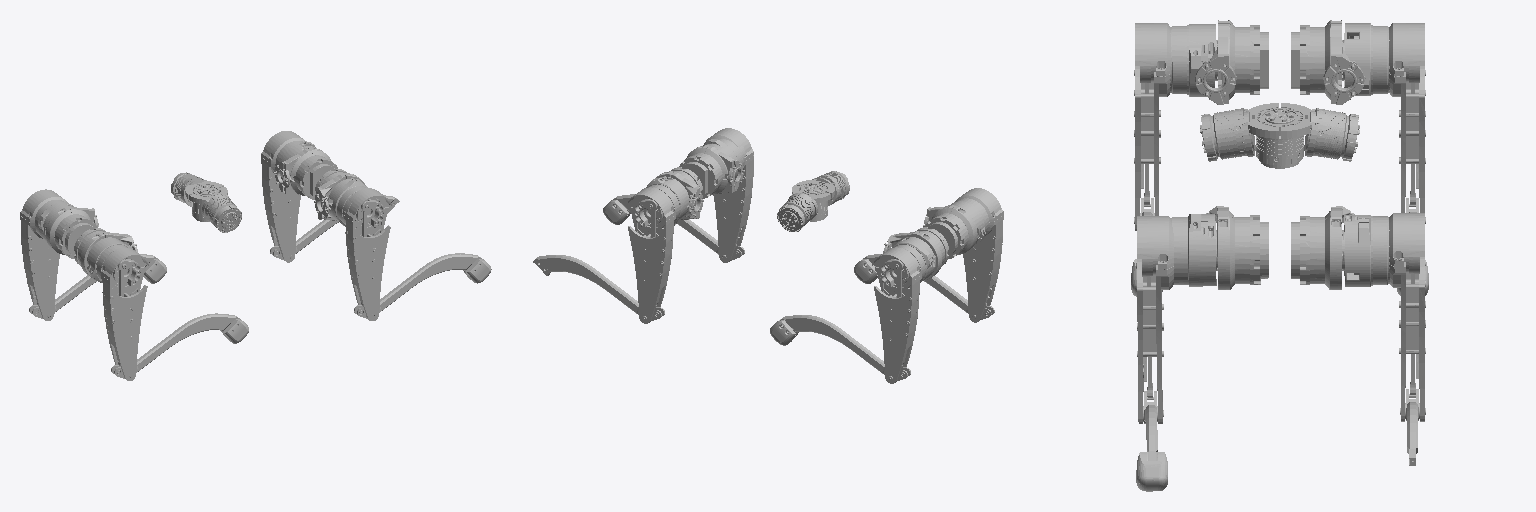
URDF robot description (bbb):
<?xml version='1.0' encoding='utf-8'?>
<robot name="bbb">
  <link name="base_link">
    <inertial>
      <origin xyz="-0.00581224200987918 0.000426613373044227 -0.00105478177946666" rpy="0 0 0" />
      <mass value="5.41366707100683" />
      <inertia ixx="0.0241142338903045" ixy="1.3553444371219E-06" ixz="-1.36708274710165E-05" iyy="0.0157681182162229" iyz="-9.83997409893714E-05" izz="0.0357076438689546" />
    </inertial>
    <visual>
      <origin xyz="0 0 0" rpy="0 0 0" />
      <geometry>
        <mesh filename="../meshes/base_link.STL" />
      </geometry>
      <material name="">
        <color rgba="0.753 0.753 0.753 1" />
      </material>
    </visual>
    <collision>
      <origin xyz="0 0 0" rpy="0 0 0" />
      <geometry>
        <mesh filename="../meshes/base_link.STL" />
      </geometry>
    </collision>
  </link>
  <link name="lf_hip_link">
    <inertial>
      <origin xyz="-0.00495565573254031 -0.0277291549147522 -4.53913481482382E-06" rpy="0 0 0" />
      <mass value="0.351815093071107" />
      <inertia ixx="0.000225370036944545" ixy="4.21090367483954E-06" ixz="8.86016895485901E-09" iyy="0.000276953379434167" iyz="-4.458148042616E-09" izz="0.000185724930026978" />
    </inertial>
    <visual>
      <origin xyz="0 0 0" rpy="0 0 0" />
      <geometry>
        <mesh filename="../meshes/lf_hip_link.STL" />
      </geometry>
      <material name="">
        <color rgba="0.753 0.753 0.753 1" />
      </material>
    </visual>
    <collision>
      <origin xyz="0 0 0" rpy="0 0 0" />
      <geometry>
        <mesh filename="../meshes/lf_hip_link.STL" />
      </geometry>
    </collision>
  </link>
  <joint name="lf_hip_roll_joint" type="revolute">
    <origin xyz="0.270000000000093 0.0770000000000011 0.00650000000000003" rpy="0 0 0" />
    <parent link="base_link" />
    <child link="lf_hip_link" />
    <axis xyz="1 0 0" />
    <limit lower="-0.87" upper="0.87" effort="0" velocity="0" />
  </joint>
  <link name="lf_thigh_link">
    <inertial>
      <origin xyz="-0.00498610621636619 -0.0284290230210779 -0.032829002371977" rpy="0 0 0" />
      <mass value="0.658934018099903" />
      <inertia ixx="0.000994922145335037" ixy="-4.50608493670515E-06" ixz="1.33080249462515E-06" iyy="0.00112098245426442" iyz="9.80379728122229E-06" izz="0.000290234107322552" />
    </inertial>
    <visual>
      <origin xyz="0 0 0" rpy="0 0 0" />
      <geometry>
        <mesh filename="../meshes/lf_thigh_link.STL" />
      </geometry>
      <material name="">
        <color rgba="0.753 0.753 0.753 1" />
      </material>
    </visual>
    <collision>
      <origin xyz="0 0 0" rpy="0 0 0" />
      <geometry>
        <mesh filename="../meshes/lf_thigh_link.STL" />
      </geometry>
    </collision>
  </link>
  <joint name="lf_hip_pitch_joint" type="revolute">
    <origin xyz="0 0.0820941029534056 0" rpy="0 0 0" />
    <parent link="lf_hip_link" />
    <child link="lf_thigh_link" />
    <axis xyz="0 1 0" />
    <limit lower="-0.79" upper="2.61" effort="0" velocity="0" />
  </joint>
  <link name="lf_calf_link">
    <inertial>
      <origin xyz="0.034323548724133 -0.000556202320309882 -0.121491863209091" rpy="0 0 0" />
      <mass value="0.0886411364041483" />
      <inertia ixx="0.000493432983654381" ixy="1.24116369279815E-09" ixz="9.20359502973423E-05" iyy="0.000522134395218444" iyz="-4.45037360047711E-09" izz="3.11362902828436e-05" />
    </inertial>
    <visual>
      <origin xyz="0 0 0" rpy="0 0 0" />
      <geometry>
        <mesh filename="../meshes/lf_calf_link.STL" />
      </geometry>
      <material name="">
        <color rgba="0.753 0.753 0.753 1" />
      </material>
    </visual>
    <collision>
      <origin xyz="0 0 0" rpy="0 0 0" />
      <geometry>
        <mesh filename="../meshes/lf_calf_link.STL" />
      </geometry>
    </collision>
  </link>
  <joint name="lf_knee_joint" type="revolute">
    <origin xyz="0 0 -0.2125" rpy="0 0 0" />
    <parent link="lf_thigh_link" />
    <child link="lf_calf_link" />
    <axis xyz="0 1 0" />
    <limit lower="-2.75" upper="-0.55" effort="0" velocity="0" />
  </joint>
  <link name="lf_foot_link">
    <inertial>
      <origin xyz="-0.00871413205939864 -7.98572501113926E-05 -0.00606935779778295" rpy="0 0 0" />
      <mass value="0.0560098725774845" />
      <inertia ixx="1.36530429816947E-05" ixy="6.03621970966013E-08" ixz="3.961578326991E-07" iyy="1.45656639808829E-05" iyz="3.87269454059871E-08" izz="1.29196315971462E-05" />
    </inertial>
    <visual>
      <origin xyz="0 0 0" rpy="0 0 0" />
      <geometry>
        <mesh filename="../meshes/lf_foot_link.STL" />
      </geometry>
      <material name="">
        <color rgba="0.753 0.753 0.753 1" />
      </material>
    </visual>
    <collision>
      <origin xyz="0 0 0" rpy="0 0 0" />
      <geometry>
        <mesh filename="../meshes/lf_foot_link.STL" />
      </geometry>
    </collision>
  </link>
  <joint name="lf_ankle_joint" type="fixed">
    <origin xyz="0.0241526723373156 0 -0.238616236023326" rpy="0 0 0" />
    <parent link="lf_calf_link" />
    <child link="lf_foot_link" />
    <axis xyz="0 0 0" />
  </joint>
  <link name="rf_hip_link">
    <inertial>
      <origin xyz="-0.0049556486179978 0.0277280815997937 0.000243507512134741" rpy="0 0 0" />
      <mass value="0.351815204950062" />
      <inertia ixx="0.000225370196335312" ixy="-4.21066762823921E-06" ixz="-4.51963328694996E-08" iyy="0.000276946853799147" iyz="7.81764996234794E-07" izz="0.000185731643441757" />
    </inertial>
    <visual>
      <origin xyz="0 0 0" rpy="0 0 0" />
      <geometry>
        <mesh filename="../meshes/rf_hip_link.STL" />
      </geometry>
      <material name="">
        <color rgba="0.753 0.753 0.753 1" />
      </material>
    </visual>
    <collision>
      <origin xyz="0 0 0" rpy="0 0 0" />
      <geometry>
        <mesh filename="../meshes/rf_hip_link.STL" />
      </geometry>
    </collision>
  </link>
  <joint name="rf_hip_roll_joint" type="revolute">
    <origin xyz="0.27 -0.0769999999999902 0.00649999999999125" rpy="0 0 0" />
    <parent link="base_link" />
    <child link="rf_hip_link" />
    <axis xyz="1 0 0" />
    <limit lower="-0.87" upper="0.87" effort="0" velocity="0" />
  </joint>
  <link name="rf_thigh_link">
    <inertial>
      <origin xyz="-0.00498610621636619 0.0284290230210779 -0.032829002371977" rpy="0 0 0" />
      <mass value="0.658934018099903" />
      <inertia ixx="0.000994922145335037" ixy="-5.34779451471435E-06" ixz="8.41748835309276E-06" iyy="0.00112098245426442" iyz="-3.7233095489091E-06" izz="0.000290234107322552" />
    </inertial>
    <visual>
      <origin xyz="0 0 0" rpy="0 0 0" />
      <geometry>
        <mesh filename="../meshes/rf_thigh_link.STL" />
      </geometry>
      <material name="">
        <color rgba="0.753 0.753 0.753 1" />
      </material>
    </visual>
    <collision>
      <origin xyz="0 0 0" rpy="0 0 0" />
      <geometry>
        <mesh filename="../meshes/rf_thigh_link.STL" />
      </geometry>
    </collision>
  </link>
  <joint name="rf_hip_pitch_joint" type="revolute">
    <origin xyz="0.00625673374689839 -0.0799602406412827 -0.0007143681757424" rpy="0 0 0" />
    <parent link="rf_hip_link" />
    <child link="rf_thigh_link" />
    <axis xyz="0 1 0" />
    <limit lower="-0.79" upper="2.61" effort="0" velocity="0" />
  </joint>
  <link name="rf_calf_link">
    <inertial>
      <origin xyz="0.034323548724133 0.000556202320309882 -0.121491863209091" rpy="0 0 0" />
      <mass value="0.0886411364041483" />
      <inertia ixx="0.000493432983654381" ixy="-7.91959230530167E-07" ixz="9.20325433021602E-05" iyy="0.000522134395218444" iyz="4.22730872923111E-06" izz="3.11362902828436e-05" />
    </inertial>
    <visual>
      <origin xyz="0 0 0" rpy="0 0 0" />
      <geometry>
        <mesh filename="../meshes/rf_calf_link.STL" />
      </geometry>
      <material name="">
        <color rgba="0.753 0.753 0.753 1" />
      </material>
    </visual>
    <collision>
      <origin xyz="0 0 0" rpy="0 0 0" />
      <geometry>
        <mesh filename="../meshes/rf_calf_link.STL" />
      </geometry>
    </collision>
  </link>
  <joint name="rf_knee_joint" type="revolute">
    <origin xyz="0 0.00183140408203904 -0.212492107869655" rpy="0 0 0" />
    <parent link="rf_thigh_link" />
    <child link="rf_calf_link" />
    <axis xyz="0 1 0" />
    <limit lower="-2.75" upper="-0.55" effort="0" velocity="0" />
  </joint>
  <link name="rf_foot_link">
    <inertial>
      <origin xyz="-0.00871413333598681 -2.75457789420258E-05 -0.00606982061808625" rpy="0 0 0" />
      <mass value="0.0560098720806614" />
      <inertia ixx="1.36530433271663E-05" ixy="5.69452574653755E-08" ixz="3.96663799090001E-07" iyy="1.45648736643304E-05" iyz="5.29061137701372E-08" izz="1.29204202579859E-05" />
    </inertial>
    <visual>
      <origin xyz="0 0 0" rpy="0 0 0" />
      <geometry>
        <mesh filename="../meshes/rf_foot_link.STL" />
      </geometry>
      <material name="">
        <color rgba="0.753 0.753 0.753 1" />
      </material>
    </visual>
    <collision>
      <origin xyz="0 0 0" rpy="0 0 0" />
      <geometry>
        <mesh filename="../meshes/rf_foot_link.STL" />
      </geometry>
    </collision>
  </link>
  <joint name="rf_ankle_joint" type="fixed">
    <origin xyz="0.0241526723373044 0.00205647938763617 -0.238607374124243" rpy="0 0 0" />
    <parent link="rf_calf_link" />
    <child link="rf_foot_link" />
    <axis xyz="0 0 0" />
  </joint>
  <link name="lb_hip_link">
    <inertial>
      <origin xyz="0.00495565572022805 -0.0277291549423456 4.53915673045979E-06" rpy="0 0 0" />
      <mass value="0.351815092669551" />
      <inertia ixx="0.000225370036592201" ixy="-4.21090362492546E-06" ixz="8.85998294641503E-09" iyy="0.000276953378961834" iyz="4.45808524602267E-09" izz="0.000185724929867589" />
    </inertial>
    <visual>
      <origin xyz="0 0 0" rpy="0 0 0" />
      <geometry>
        <mesh filename="../meshes/lb_hip_link.STL" />
      </geometry>
      <material name="">
        <color rgba="0.753 0.753 0.753 1" />
      </material>
    </visual>
    <collision>
      <origin xyz="0 0 0" rpy="0 0 0" />
      <geometry>
        <mesh filename="../meshes/lb_hip_link.STL" />
      </geometry>
    </collision>
  </link>
  <joint name="lb_hip_roll_joint" type="revolute">
    <origin xyz="-0.27 0.0769999999999937 0.00649999999998982" rpy="0 0 0" />
    <parent link="base_link" />
    <child link="lb_hip_link" />
    <axis xyz="1 0 0" />
    <limit lower="-0.87" upper="0.87" effort="0" velocity="0" />
  </joint>
  <link name="lb_thigh_link">
    <inertial>
      <origin xyz="-0.0034268508780364 -0.0273873495689585 -0.0328343083171107" rpy="0 0 0" />
      <mass value="0.658933850403685" />
      <inertia ixx="0.000970448684122255" ixy="-2.47605315392083E-06" ixz="2.47514430228116E-05" iyy="0.00112091937488099" iyz="8.30041640505366E-06" izz="0.000314770592141005" />
    </inertial>
    <visual>
      <origin xyz="0 0 0" rpy="0 0 0" />
      <geometry>
        <mesh filename="../meshes/lb_thigh_link.STL" />
      </geometry>
      <material name="">
        <color rgba="0.753 0.753 0.753 1" />
      </material>
    </visual>
    <collision>
      <origin xyz="0 0 0" rpy="0 0 0" />
      <geometry>
        <mesh filename="../meshes/lb_thigh_link.STL" />
      </geometry>
    </collision>
  </link>
  <joint name="lb_hip_pitch_joint" type="revolute">
    <origin xyz="0 0.082094102953411 0" rpy="0 0 0" />
    <parent link="lb_hip_link" />
    <child link="lb_thigh_link" />
    <axis xyz="0 1 0" />
    <limit lower="-0.79" upper="2.61" effort="0" velocity="0" />
  </joint>
  <link name="lb_calf_link">
    <inertial>
      <origin xyz="0.0343235492158751 -0.00197924277861043 -0.121494261539372" rpy="0 0 0" />
      <mass value="0.0886411363789507" />
      <inertia ixx="0.000493432983529901" ixy="1.24116369475104E-09" ixz="9.20359502973427E-05" iyy="0.000522152592703594" iyz="-4.45037359904783E-09" izz="3.11180923694494e-05" />
    </inertial>
    <visual>
      <origin xyz="0 0 0" rpy="0 0 0" />
      <geometry>
        <mesh filename="../meshes/lb_calf_link.STL" />
      </geometry>
      <material name="">
        <color rgba="0.753 0.753 0.753 1" />
      </material>
    </visual>
    <collision>
      <origin xyz="0 0 0" rpy="0 0 0" />
      <geometry>
        <mesh filename="../meshes/lb_calf_link.STL" />
      </geometry>
    </collision>
  </link>
  <joint name="lb_knee_joint" type="revolute">
    <origin xyz="0 0 -0.212500000000001" rpy="0 0 0" />
    <parent link="lb_thigh_link" />
    <child link="lb_calf_link" />
    <axis xyz="0 1 0" />
    <limit lower="-2.75" upper="-0.55" effort="0" velocity="0" />
  </joint>
  <link name="lb_foot_link">
    <inertial>
      <origin xyz="-0.00871413198622428 -7.98572501099215E-05 -0.00606935779675599" rpy="0 0 0" />
      <mass value="0.0560098725774851" />
      <inertia ixx="1.36530429816948E-05" ixy="6.03621970965031E-08" ixz="3.96157832699089E-07" iyy="1.45656639808831E-05" iyz="3.87269454060392E-08" izz="1.29196315971463E-05" />
    </inertial>
    <visual>
      <origin xyz="0 0 0" rpy="0 0 0" />
      <geometry>
        <mesh filename="../meshes/lb_foot_link.STL" />
      </geometry>
      <material name="">
        <color rgba="0.753 0.753 0.753 1" />
      </material>
    </visual>
    <collision>
      <origin xyz="0 0 0" rpy="0 0 0" />
      <geometry>
        <mesh filename="../meshes/lb_foot_link.STL" />
      </geometry>
    </collision>
  </link>
  <joint name="lb_ankle_joint" type="fixed">
    <origin xyz="0.0241526722641411 0 -0.238616236024353" rpy="0 0 0" />
    <parent link="lb_calf_link" />
    <child link="lb_foot_link" />
    <axis xyz="0 0 0" />
  </joint>
  <link name="rb_hip_link">
    <inertial>
      <origin xyz="0.0049557 0.027729 -4.5391E-06" rpy="0 0 0" />
      <mass value="0.35182" />
      <inertia ixx="0.00022537" ixy="4.2109E-06" ixz="-8.8602E-09" iyy="0.00027695" iyz="4.4582E-09" izz="0.00018572" />
    </inertial>
    <visual>
      <origin xyz="0 0 0" rpy="0 0 0" />
      <geometry>
        <mesh filename="../meshes/rb_hip_link.STL" />
      </geometry>
      <material name="">
        <color rgba="0.753 0.753 0.753 1" />
      </material>
    </visual>
    <collision>
      <origin xyz="0 0 0" rpy="0 0 0" />
      <geometry>
        <mesh filename="../meshes/rb_hip_link.STL" />
      </geometry>
    </collision>
  </link>
  <joint name="rb_hip_roll_joint" type="revolute">
    <origin xyz="-0.27 -0.0769999999999942 0.00650000000000997" rpy="0 0 0" />
    <parent link="base_link" />
    <child link="rb_hip_link" />
    <axis xyz="1 0 0" />
    <limit lower="-0.87" upper="0.87" effort="0" velocity="0" />
  </joint>
  <link name="rb_thigh_link">
    <inertial>
      <origin xyz="-0.0034268508780364 0.0273873495689585 -0.0328343083171107" rpy="0 0 0" />
      <mass value="0.658933850403685" />
      <inertia ixx="0.000970448684122255" ixy="5.01796507137574E-06" ixz="1.03451497162236E-06" iyy="0.00112091937488099" iyz="-1.54452384258843E-05" izz="0.000314770592141005" />
    </inertial>
    <visual>
      <origin xyz="0 0 0" rpy="0 0 0" />
      <geometry>
        <mesh filename="../meshes/rb_thigh_link.STL" />
      </geometry>
      <material name="">
        <color rgba="0.753 0.753 0.753 1" />
      </material>
    </visual>
    <collision>
      <origin xyz="0 0 0" rpy="0 0 0" />
      <geometry>
        <mesh filename="../meshes/rb_thigh_link.STL" />
      </geometry>
    </collision>
  </link>
  <joint name="rb_hip_pitch_joint" type="revolute">
    <origin xyz="0 -0.0799663975607361 0" rpy="0 0 0" />
    <parent link="rb_hip_link" />
    <child link="rb_thigh_link" />
    <axis xyz="0 1 0" />
    <limit lower="-0.79" upper="2.61" effort="0" velocity="0" />
  </joint>
  <link name="rb_calf_link">
    <inertial>
      <origin xyz="0.0343235492158751 0.00197924277861043 -0.121494261539372" rpy="0 0 0" />
      <mass value="0.0886411363789507" />
      <inertia ixx="0.000493432983529901" ixy="1.24116369236042E-09" ixz="9.20359502973388E-05" iyy="0.000522152592703594" iyz="-4.45037359937172E-09" izz="3.11180923694494e-05" />
    </inertial>
    <visual>
      <origin xyz="0 0 0" rpy="0 0 0" />
      <geometry>
        <mesh filename="../meshes/rb_calf_link.STL" />
      </geometry>
      <material name="">
        <color rgba="0.753 0.753 0.753 1" />
      </material>
    </visual>
    <collision>
      <origin xyz="0 0 0" rpy="0 0 0" />
      <geometry>
        <mesh filename="../meshes/rb_calf_link.STL" />
      </geometry>
    </collision>
  </link>
  <joint name="rb_knee_joint" type="revolute">
    <origin xyz="0 0.00183147210188141 -0.212500000000001" rpy="0 0 0" />
    <parent link="rb_thigh_link" />
    <child link="rb_calf_link" />
    <axis xyz="0 1 0" />
    <limit lower="-2.75" upper="-0.55" effort="0" velocity="0" />
  </joint>
  <link name="rb_foot_link">
    <inertial>
      <origin xyz="-0.00871413205939331 -7.98572501101436E-05 -0.00606935779778162" rpy="0 0 0" />
      <mass value="0.056009872577484" />
      <inertia ixx="1.36530429816945E-05" ixy="6.0362197096531E-08" ixz="3.96157832699087E-07" iyy="1.45656639808828E-05" iyz="3.8726945406054E-08" izz="1.2919631597146E-05" />
    </inertial>
    <visual>
      <origin xyz="0 0 0" rpy="0 0 0" />
      <geometry>
        <mesh filename="../meshes/rb_foot_link.STL" />
      </geometry>
      <material name="">
        <color rgba="0.753 0.753 0.753 1" />
      </material>
    </visual>
    <collision>
      <origin xyz="0 0 0" rpy="0 0 0" />
      <geometry>
        <mesh filename="../meshes/rb_foot_link.STL" />
      </geometry>
    </collision>
  </link>
  <joint name="rb_ankle_joint" type="fixed">
    <origin xyz="0.0241526723373114 -0.00395917750636193 -0.238616236023326" rpy="0 0 0" />
    <parent link="rb_calf_link" />
    <child link="rb_foot_link" />
    <axis xyz="0 0 0" />
  </joint>
</robot>

--- Facts derived from the render (not from the file) ---
The picture shows the robot from 3 angles, left to right: view 1: azimuth 30°, elevation 25°; view 2: azimuth 150°, elevation 25°; view 3: azimuth 270°, elevation 25°; orthographic projection.
Robot: bbb — 17 links, 16 joints (12 revolute, 4 fixed); root link base_link; default pose: joints at zero except 4 at the middle of their limits (lf_knee_joint = -1.65, rf_knee_joint = -1.65, lb_knee_joint = -1.65, rb_knee_joint = -1.65).
Visible links, largest first — view 1: rf_thigh_link, rb_thigh_link, lb_thigh_link, lf_thigh_link, base_link, lf_hip_link, lb_hip_link, rb_calf_link, rf_calf_link, rb_hip_link, rf_hip_link, lf_calf_link (+1 smaller); view 2: lf_thigh_link, lb_thigh_link, rb_thigh_link, rf_thigh_link, base_link, rf_hip_link, rb_hip_link, lf_calf_link, lb_calf_link, lb_hip_link, lf_hip_link, rf_calf_link (+1 smaller); view 3: lf_thigh_link, rf_thigh_link, base_link, rb_thigh_link, lb_thigh_link, rb_hip_link, lb_hip_link, rf_hip_link, lf_hip_link, rf_foot_link, lf_calf_link, rf_calf_link.
Link boxes in pixels (x1=…): rf_thigh_link: x1=328, y1=178, x2=392, y2=320; rb_thigh_link: x1=87, y1=237, x2=149, y2=380; lb_thigh_link: x1=20, y1=189, x2=73, y2=320; lf_thigh_link: x1=261, y1=131, x2=315, y2=262; base_link: x1=171, y1=172, x2=241, y2=232; lf_hip_link: x1=273, y1=147, x2=337, y2=199; lb_hip_link: x1=46, y1=206, x2=98, y2=258; rb_calf_link: x1=111, y1=313, x2=238, y2=378; rf_calf_link: x1=354, y1=253, x2=481, y2=318; rb_hip_link: x1=74, y1=228, x2=137, y2=277; rf_hip_link: x1=314, y1=169, x2=364, y2=220; lf_calf_link: x1=270, y1=195, x2=399, y2=259; lf_thigh_link: x1=626, y1=176, x2=689, y2=323; lb_thigh_link: x1=872, y1=237, x2=935, y2=383; rb_thigh_link: x1=945, y1=188, x2=1003, y2=322; rf_thigh_link: x1=703, y1=128, x2=753, y2=262; base_link: x1=777, y1=171, x2=849, y2=231; rf_hip_link: x1=679, y1=145, x2=744, y2=198; rb_hip_link: x1=923, y1=205, x2=977, y2=258; lf_calf_link: x1=533, y1=255, x2=664, y2=320; lb_calf_link: x1=780, y1=315, x2=910, y2=380; lb_hip_link: x1=883, y1=227, x2=948, y2=280; lf_hip_link: x1=656, y1=167, x2=703, y2=219; rf_calf_link: x1=613, y1=194, x2=744, y2=260; lf_thigh_link: x1=1342, y1=213, x2=1425, y2=421; rf_thigh_link: x1=1136, y1=214, x2=1217, y2=423; base_link: x1=1200, y1=103, x2=1359, y2=168; rb_thigh_link: x1=1134, y1=23, x2=1217, y2=230; lb_thigh_link: x1=1342, y1=23, x2=1425, y2=223; rb_hip_link: x1=1194, y1=20, x2=1268, y2=104; lb_hip_link: x1=1291, y1=20, x2=1365, y2=104; rf_hip_link: x1=1206, y1=206, x2=1268, y2=289; lf_hip_link: x1=1291, y1=206, x2=1354, y2=289; rf_foot_link: x1=1136, y1=452, x2=1167, y2=491; lf_calf_link: x1=1406, y1=389, x2=1418, y2=465; rf_calf_link: x1=1144, y1=391, x2=1157, y2=460.
Bounding box of the posed robot: 0.8618 × 0.3562 × 0.2852 m (x, y, z).
16 mesh visuals loaded from 17 distinct referenced files (16 binary STL); not drawn: 1 (reference not matched to a file when rendering).
